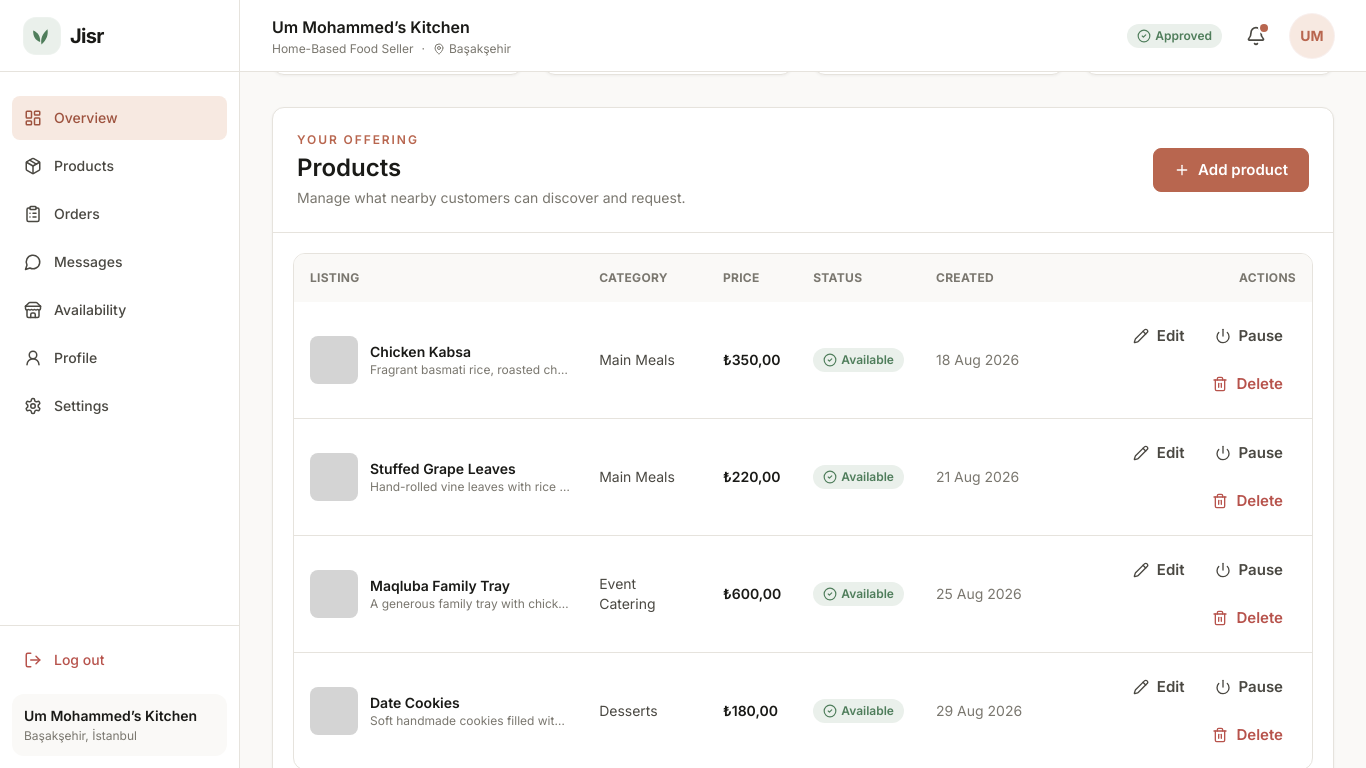
Test: provider dashboard › requires delete confirmation
(page scrolled)
Check: the heading "Products" is shown, box [297, 153, 401, 182]
What coordinates should you click on to do the following:
click the button with aria-label "Delete Chicken Kabsa"
I would click on:
 (1248, 384)
Its box is [1200, 362, 1296, 406].
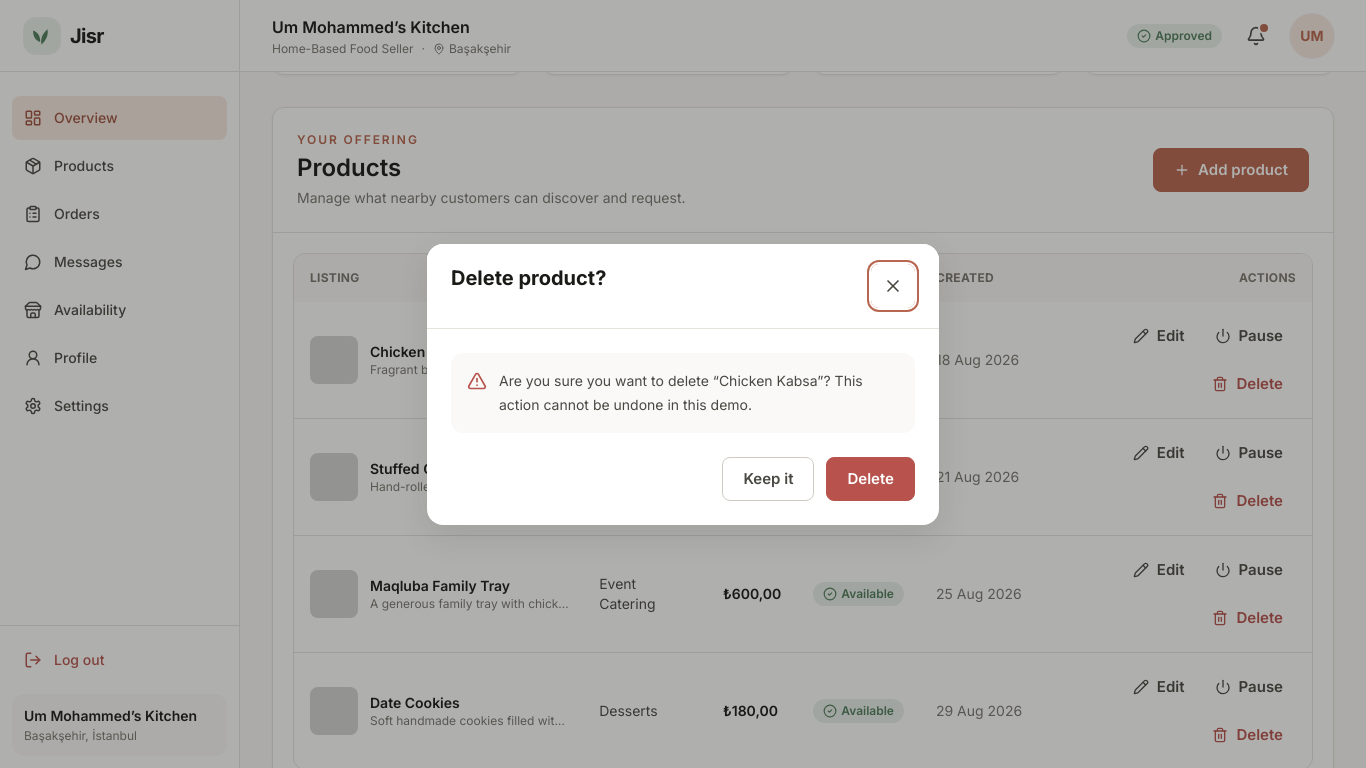
Check: the heading "Delete product?" is shown, box [451, 264, 606, 292]
Check: the text "“Chicken Kabsa”" is shown, box [499, 372, 863, 412]
